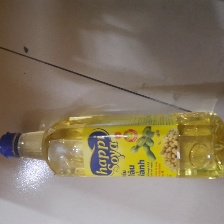Happy Soya: (1, 110, 224, 179)
